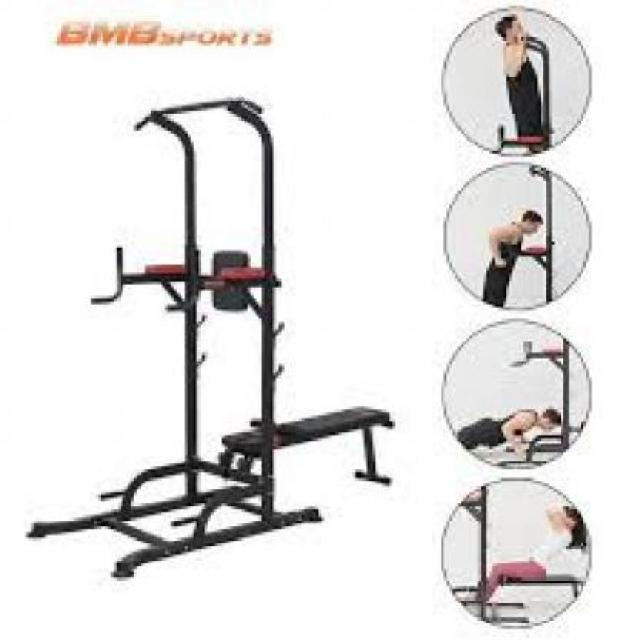chinning dipping: (22, 97, 282, 578)
